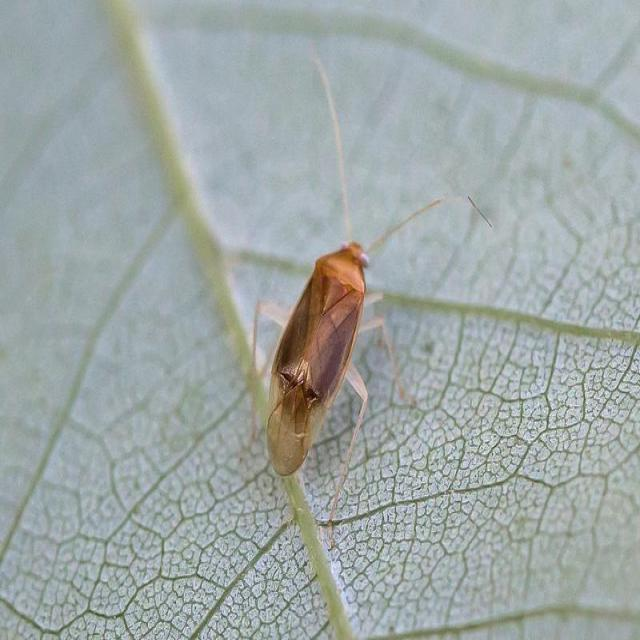Miridae-Adult-: (244, 35, 451, 528)
